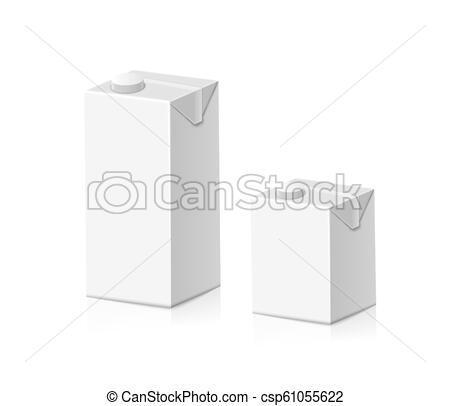carton: (64, 53, 229, 318), (241, 155, 402, 341)
